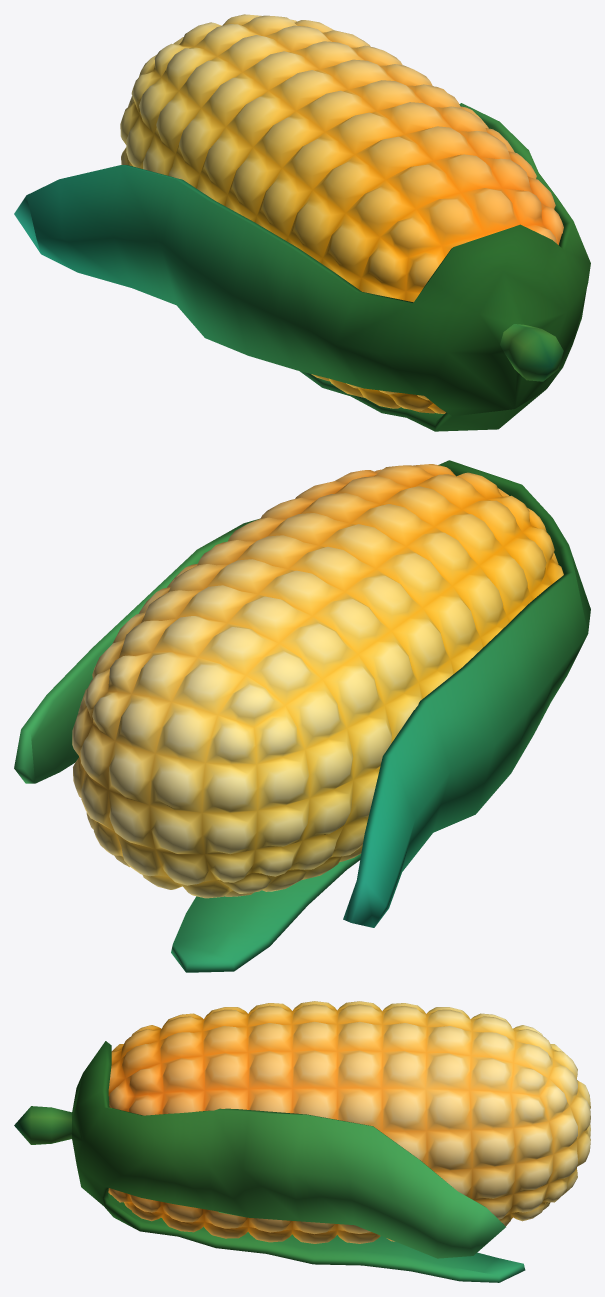
File: corn_001.fbx
3 renders of one model, top to bottom at view 1: azimuth 30°, elevation 25°; view 2: azimuth 150°, elevation 25°; view 3: azimuth 270°, elevation 25°, orthographic. The views are drawn at different scales.
Visible parts, largest first — view 1: corn_001; view 2: corn_001; view 3: corn_001.
Part boxes in pixels (x1,y1,x2,y2): corn_001: [14, 14, 590, 431]; corn_001: [14, 460, 590, 972]; corn_001: [14, 1001, 590, 1282].
Size of the model in its own units: 13.45 by 22.27 by 11.07.
